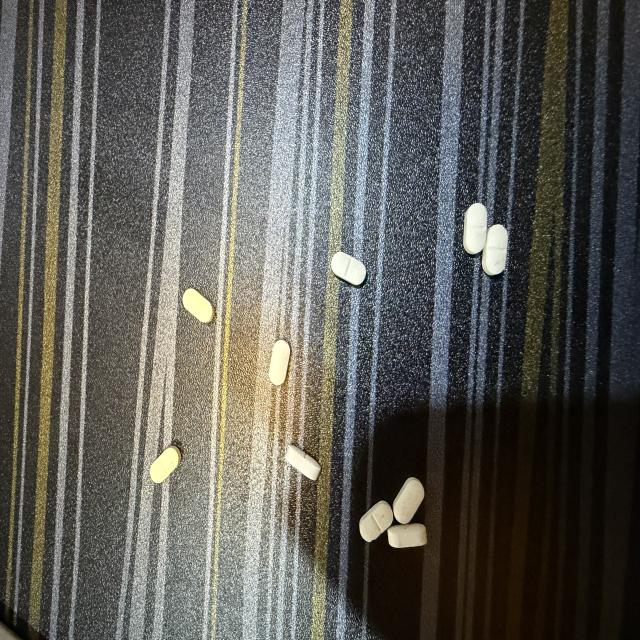pill: (393, 478, 424, 524), (360, 501, 393, 542), (482, 225, 507, 275), (286, 445, 320, 480), (463, 203, 486, 254), (332, 252, 366, 286), (150, 446, 181, 483), (183, 289, 213, 323), (269, 340, 290, 385), (387, 523, 426, 547)
